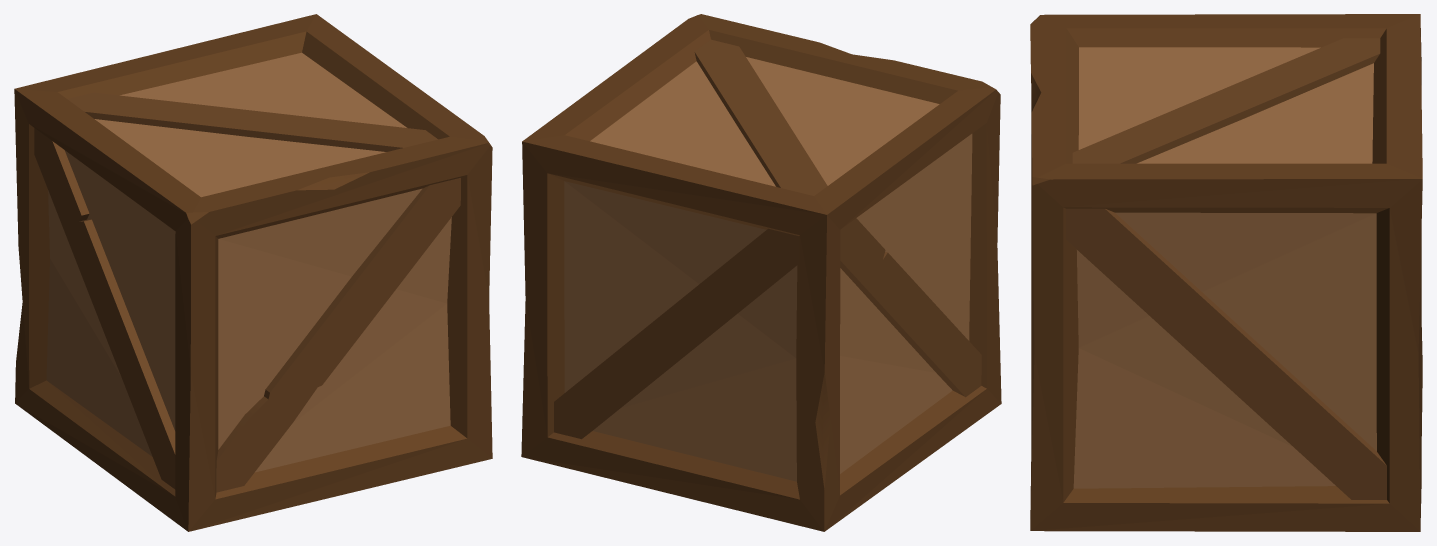
The picture shows the model from 3 angles, left to right: view 1: azimuth 30°, elevation 25°; view 2: azimuth 150°, elevation 25°; view 3: azimuth 270°, elevation 25°; orthographic projection. The views are drawn at different scales.
Parts seen in each view (by area): view 1: Box_01; view 2: Box_01; view 3: Box_01.
Boxes of the visible parts, box(x1,y1,x2,y2) form: Box_01: box(14, 14, 492, 531); Box_01: box(521, 14, 1001, 531); Box_01: box(1030, 14, 1422, 531).
Size of the model in its own units: 94.38 by 93.95 by 94.4.
